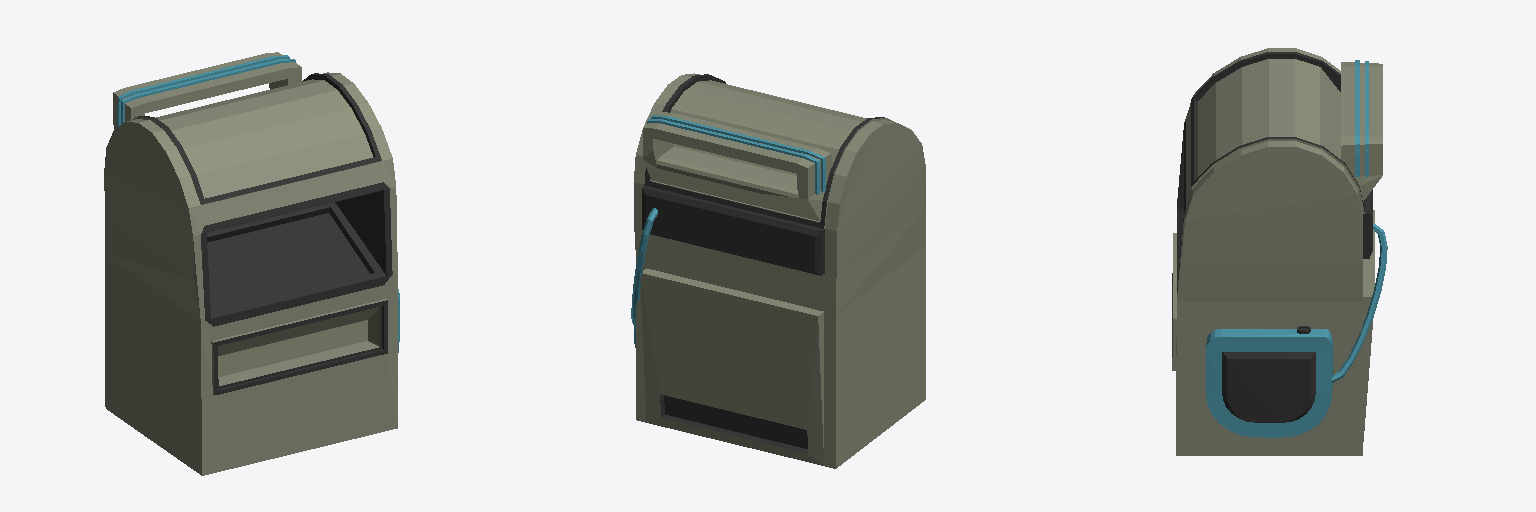
Rendered from PaperRecycler.obj.
3 renders of one model, left to right at view 1: azimuth 30°, elevation 25°; view 2: azimuth 150°, elevation 25°; view 3: azimuth 270°, elevation 25°, orthographic.
Parts seen in each view (by area): view 1: BézierCurve; view 2: BézierCurve, BézierCurve.001; view 3: BézierCurve, BézierCurve.001.
Part boxes in pixels (x1,y1,x2,y2): BézierCurve: (104, 52, 399, 475); BézierCurve: (634, 73, 925, 468); BézierCurve.001: (631, 208, 657, 324); BézierCurve: (1172, 48, 1382, 455); BézierCurve.001: (1332, 223, 1387, 382).
Size of the model in its own units: 7.49 by 10.08 by 6.3.